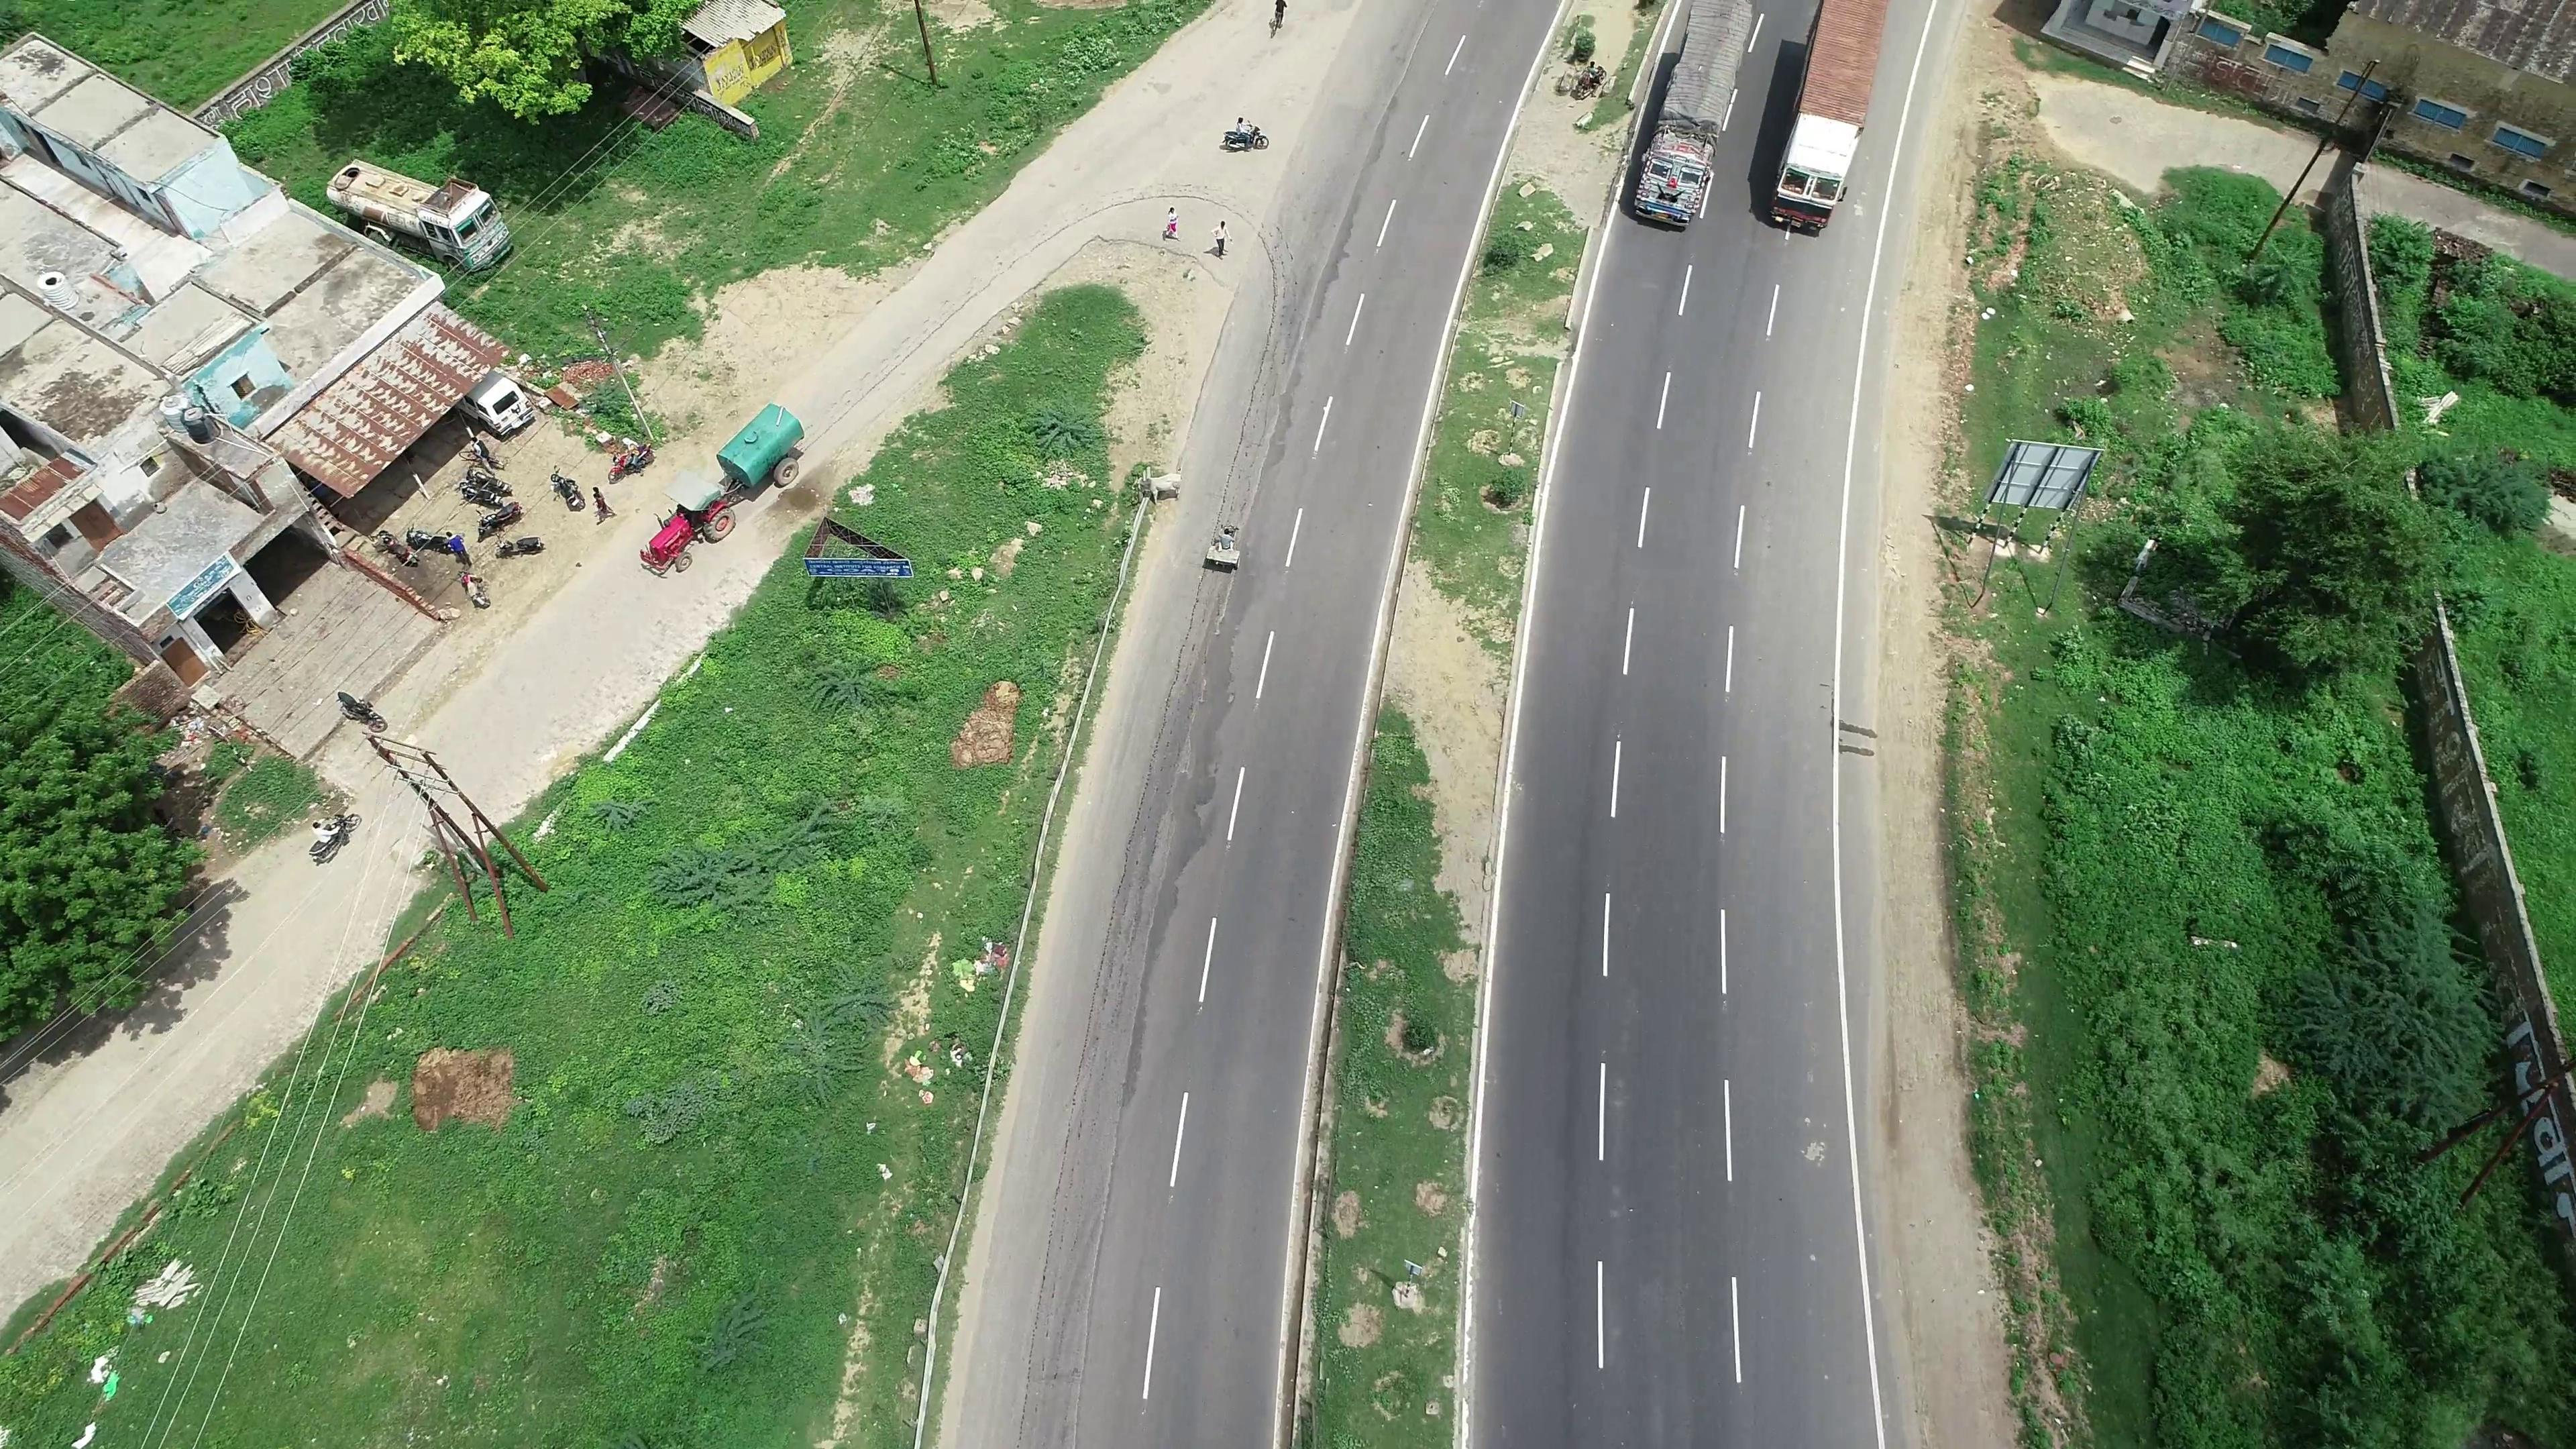Ravelling: (1116, 653, 1249, 998), (1260, 226, 1369, 497)
